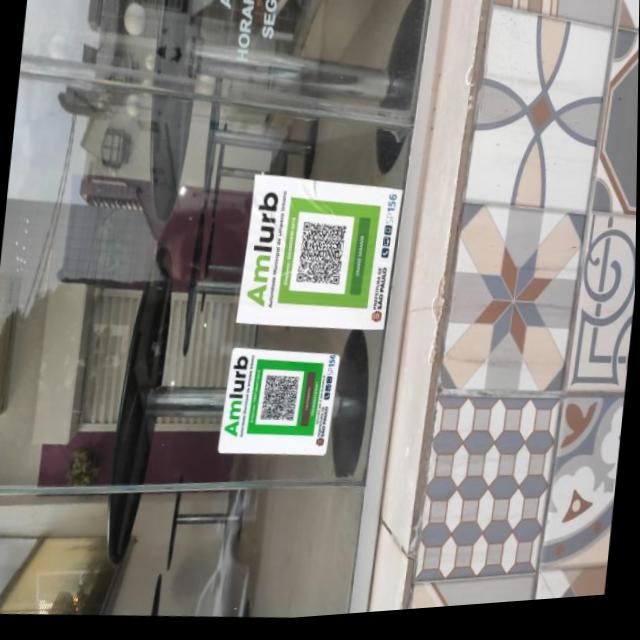qrcode: (298, 224, 349, 292), (262, 377, 302, 427)
